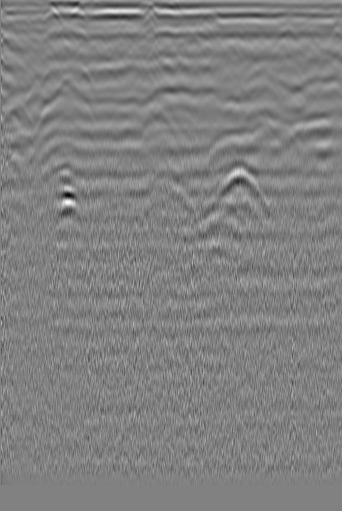가스: (44, 181, 82, 216)
상수: (304, 20, 324, 40)
오수: (4, 28, 25, 48)
우수: (141, 16, 161, 36)
